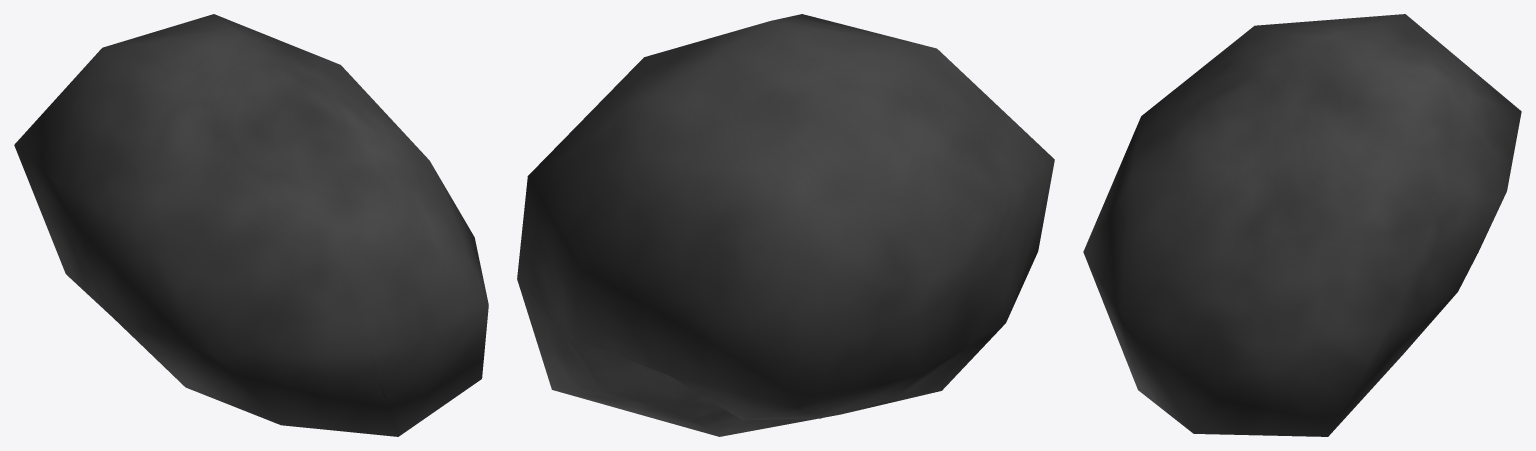
The model's file is RockSmall3.fbx.
3 views of the same model, side by side, from view 1: azimuth 30°, elevation 25°; view 2: azimuth 150°, elevation 25°; view 3: azimuth 270°, elevation 25° (orthographic). The views are drawn at different scales.
Parts seen in each view (by area): view 1: RockSmall3; view 2: RockSmall3; view 3: RockSmall3.
Part boxes in pixels (x1=…): RockSmall3: x1=14, y1=14, x2=488, y2=436; RockSmall3: x1=517, y1=14, x2=1054, y2=436; RockSmall3: x1=1083, y1=14, x2=1521, y2=436.
Bounding box in the file's own units: 44.06 × 41.11 × 47.13.
1 material, 1 textured.
